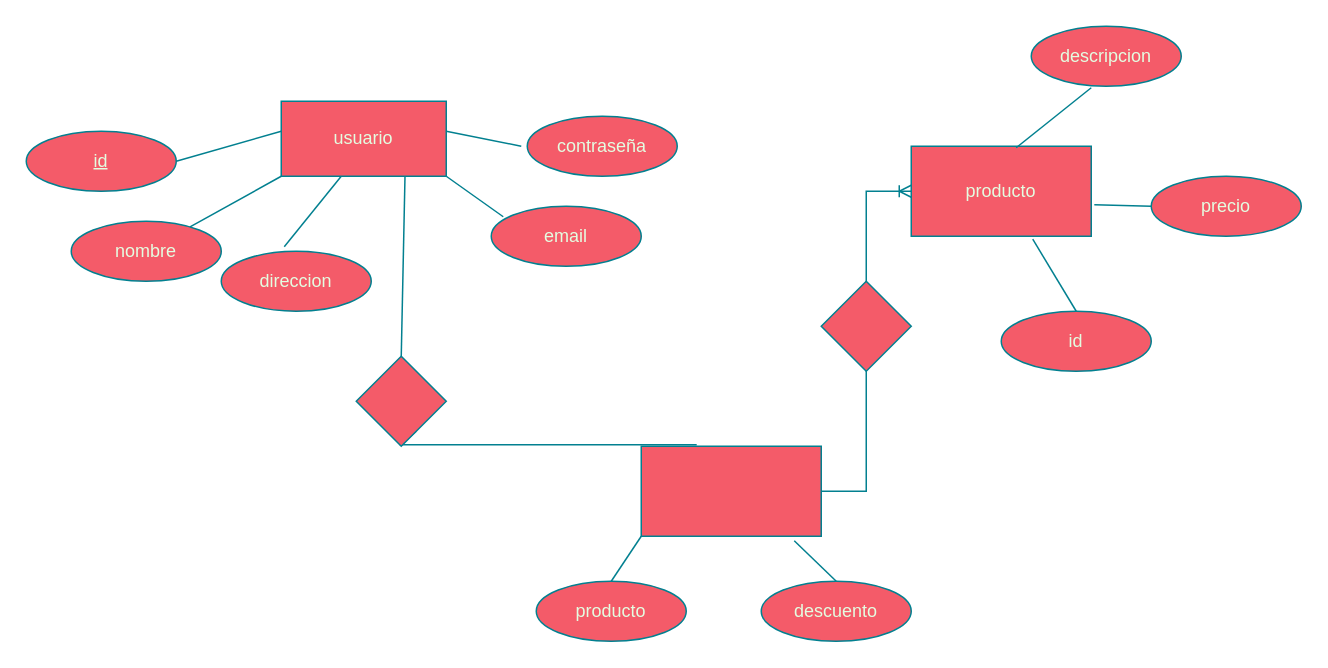
This 1328x668 diagram has some shape labels left out. The centre of each missing label's shape, as x and y in pixels:
carrito de compras: point (730, 490)
Relationship: point (400, 400)
tiene: point (865, 325)
